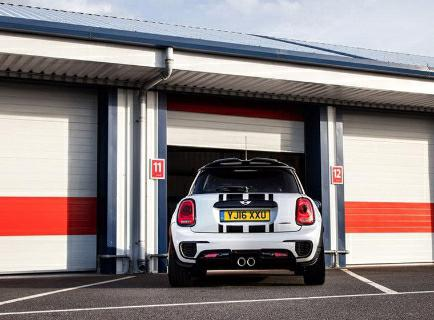MINI-JCW: (166, 164, 326, 279)
